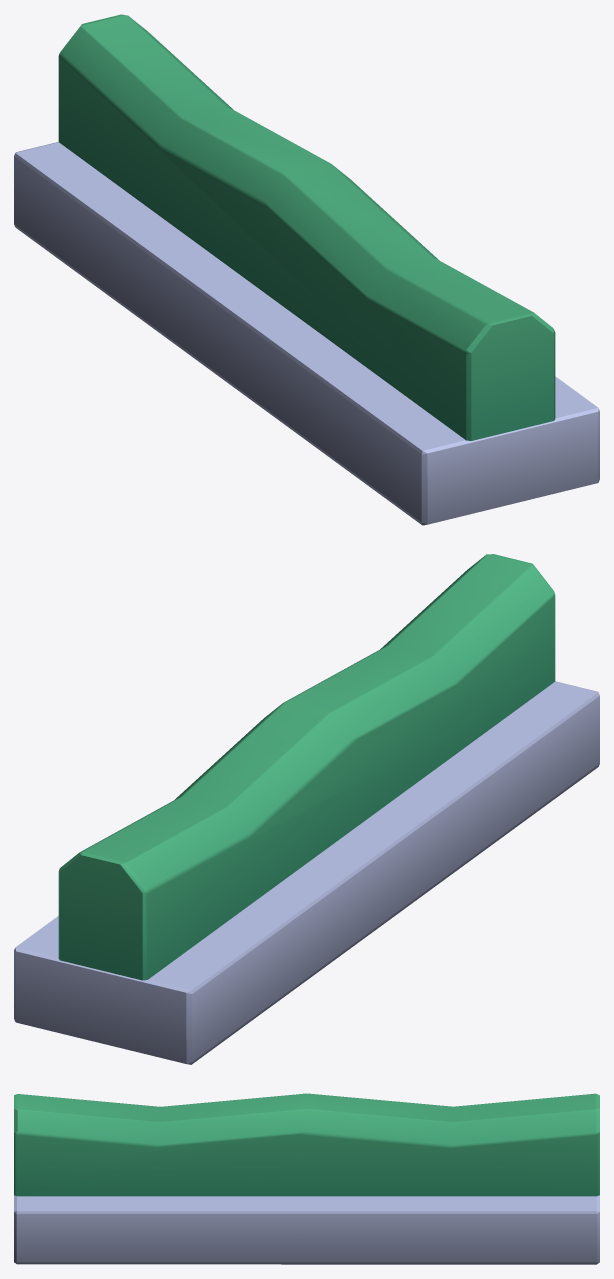
The model's file is kenney-fantasy-town__hedge.glb.
3 views of the same model, one above another, from view 1: azimuth 30°, elevation 25°; view 2: azimuth 150°, elevation 25°; view 3: azimuth 270°, elevation 25° (orthographic). The views are drawn at different scales.
Parts seen in each view (by area): view 1: hedge; view 2: hedge; view 3: hedge.
Part boxes in pixels (x1,y1,x2,y2): hedge: (14,14,599,525); hedge: (14,554,599,1064); hedge: (14,1093,599,1264).
Size of the model in its own units: 0.25 by 0.25 by 1.
1 material, 1 textured.
